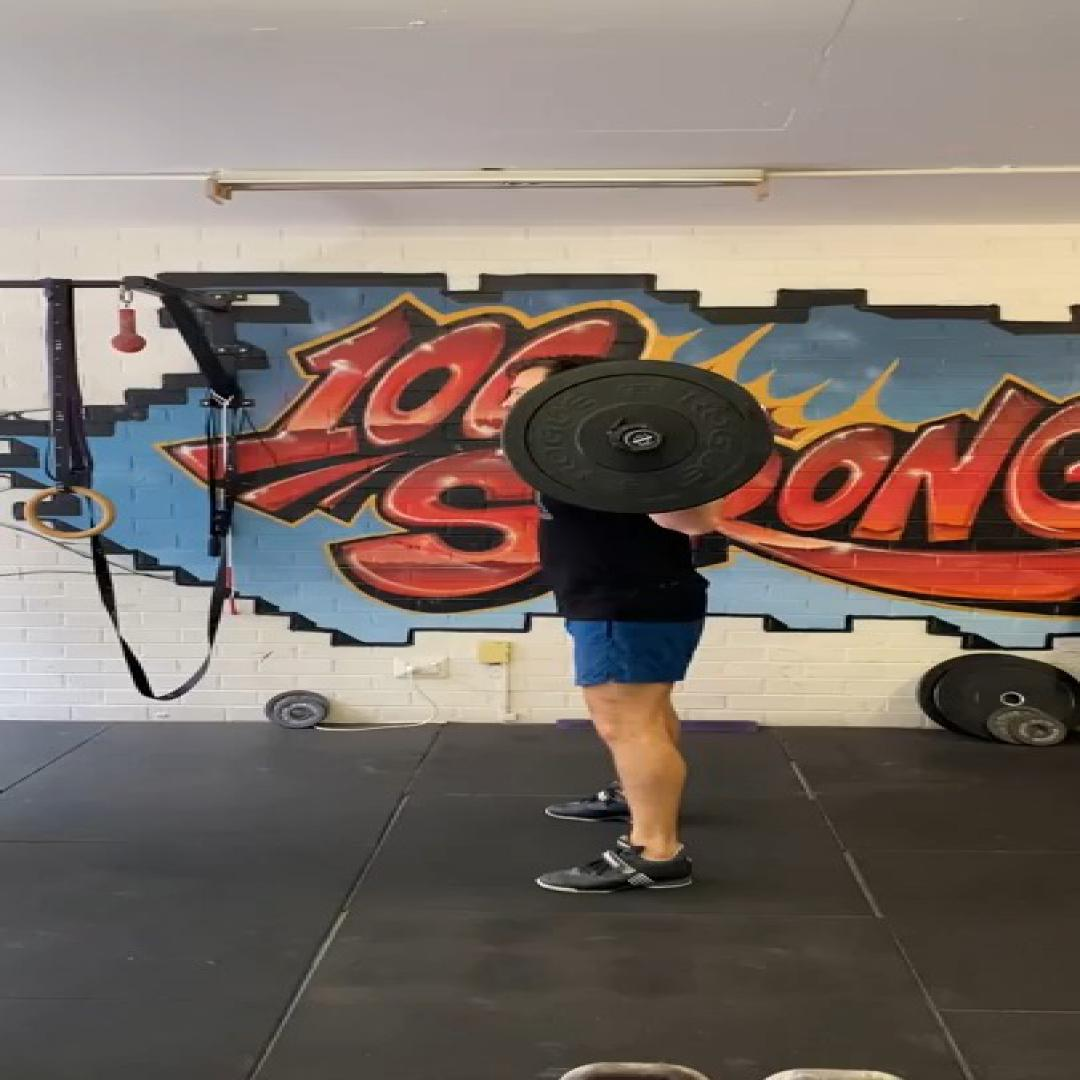Bar: (620, 429, 665, 451)
Barbell: (503, 360, 774, 513)
